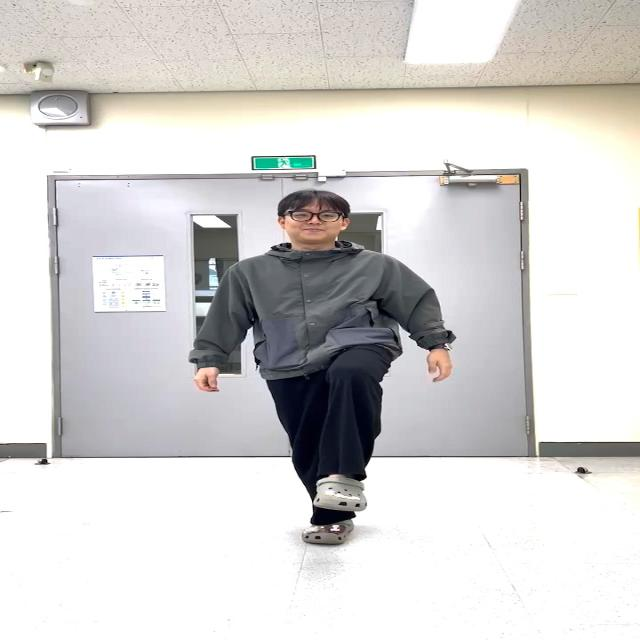leg: (296, 325, 406, 515)
